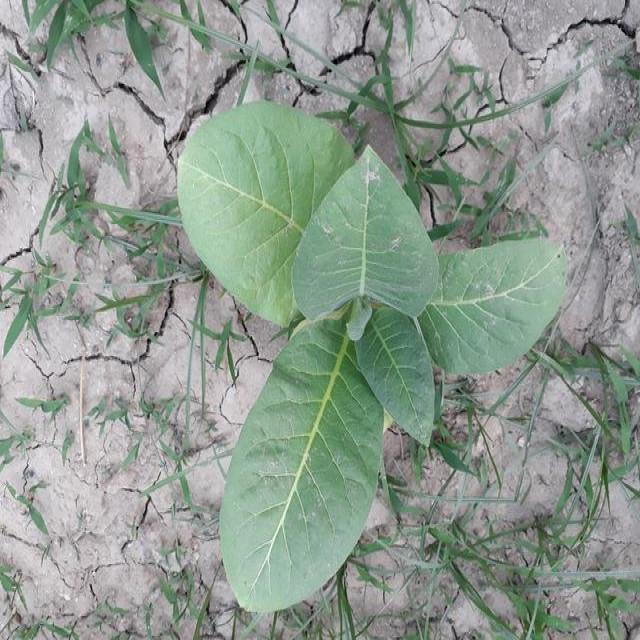crop: (181, 100, 563, 612)
